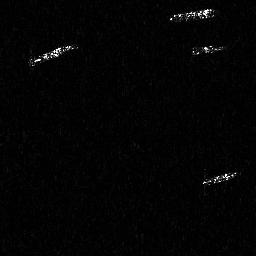ship: (27, 41, 78, 68), (199, 166, 241, 194), (169, 5, 216, 25), (192, 41, 224, 56)
